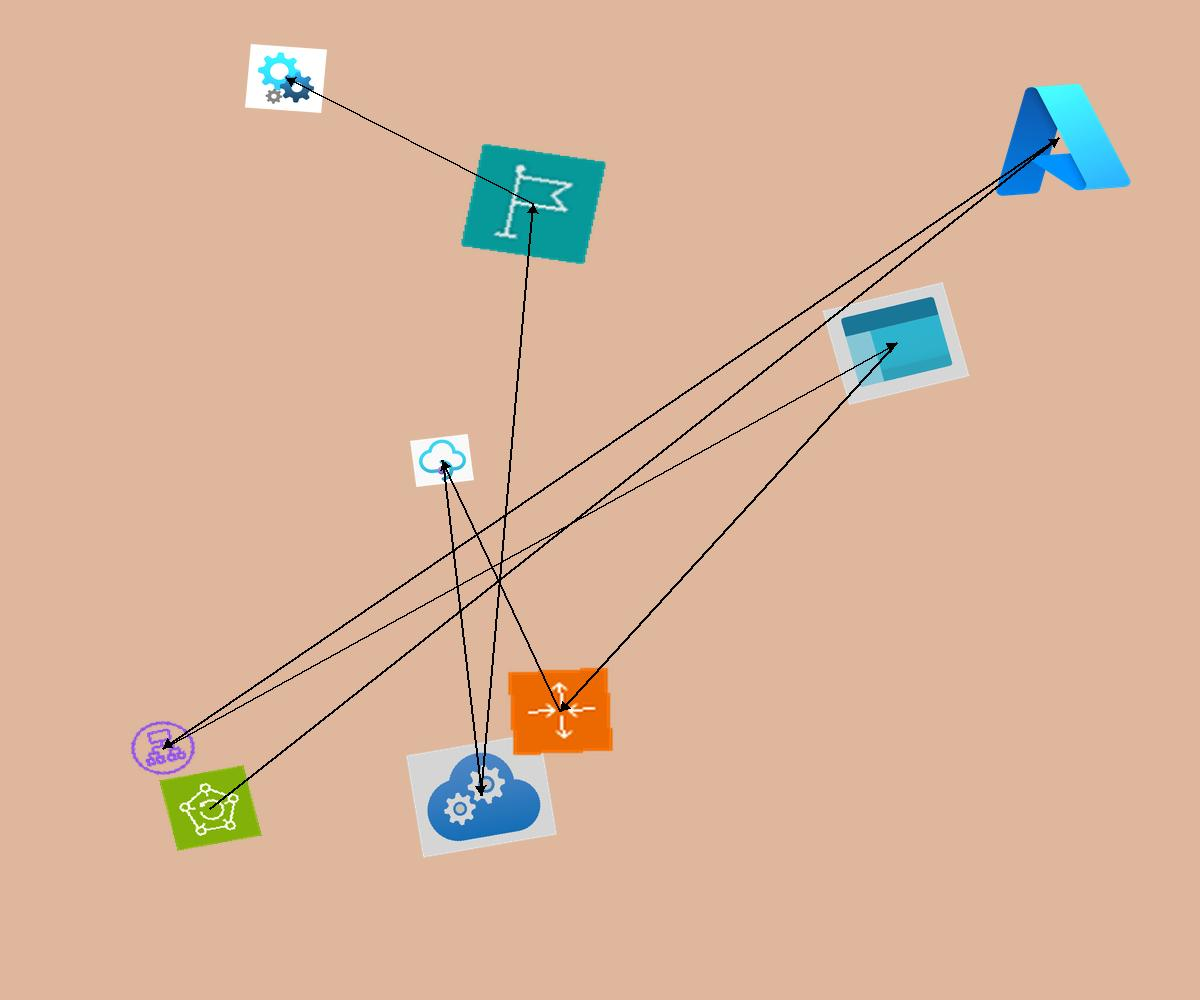AWS-Backup: (159, 765, 262, 851)
AWS-Region: (460, 143, 607, 265)
AWS-Res_Elastic-Load-Balancing_Application-Load-Balancer: (120, 712, 206, 784)
AWS-Scaling-group: (506, 666, 615, 757)
Azure_api: (245, 44, 327, 113)
Azure_api_gateway: (410, 434, 474, 487)
Azure_cloud_services: (406, 732, 557, 858)
Azure_management-portal: (822, 282, 970, 405)
Azure_services: (979, 72, 1138, 205)
